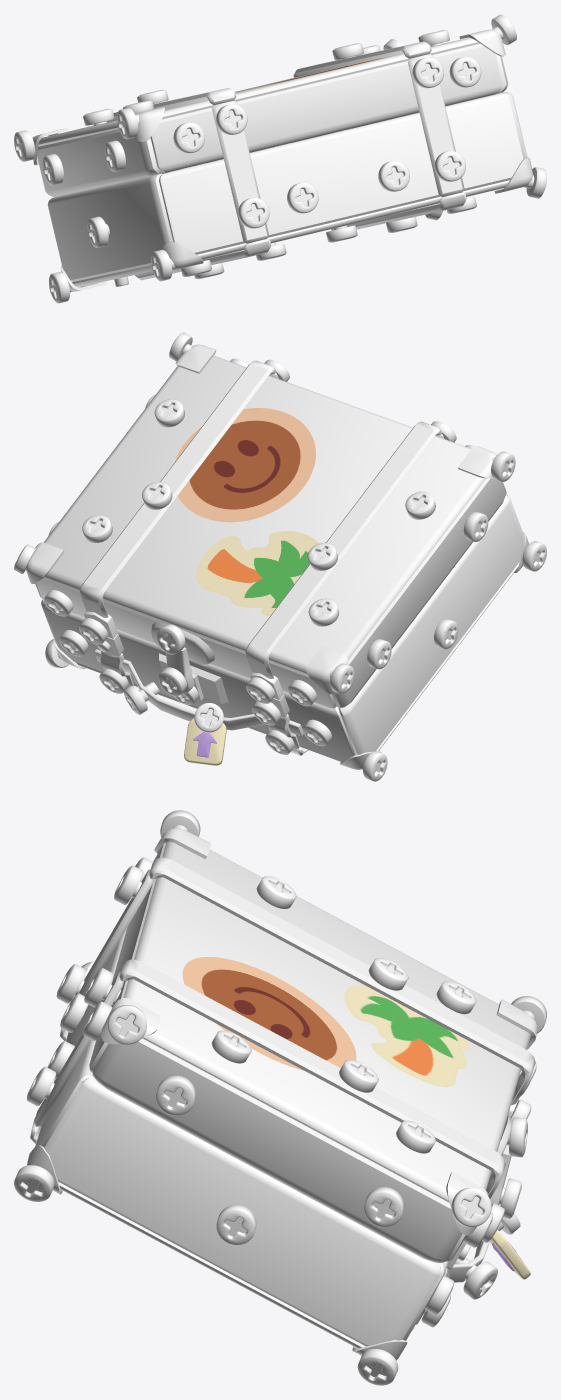
File: Suitcase.fbx
The picture shows the model from 3 angles, top to bottom: view 1: azimuth 30°, elevation 25°; view 2: azimuth 150°, elevation 25°; view 3: azimuth 270°, elevation 25°; orthographic projection. The views are drawn at different scales.
Visible parts, largest first — view 1: Board_Suitcase_25, Board_Suitcase_11, Screw (×21), Board_Suitcase_17, Board_Suitcase_20, Board_Suitcase_21, Board_Suitcase_2, Board_Suitcase_4, Board_Suitcase_24, Board_Suitcase_27, Board_Suitcase_3, Board_Suitcase_9 (+6 smaller); view 2: Board_Suitcase_21, Screw (×23), Board_Suitcase_17, Board_Suitcase_27, Board_Suitcase_9, Board_Suitcase_15, Board_Suitcase_20, Board_Suitcase_19, Board_Suitcase_12, Board_Suitcase_53, Board_Suitcase_13, Board_Suitcase_24 (+7 smaller); view 3: Board_Suitcase_21, Board_Suitcase_16, Board_Suitcase_18, Screw (×20), Board_Suitcase_9, Board_Suitcase_27, Board_Suitcase_25, Board_Suitcase_24, Board_Suitcase_11, Board_Suitcase_2, Board_Suitcase_4, Board_Suitcase_26 (+3 smaller).
Part boxes in pixels (bbox=[...]): Board_Suitcase_25: bbox=[159, 93, 523, 254]; Board_Suitcase_11: bbox=[150, 44, 502, 172]; Screw (×21): bbox=[14, 14, 546, 303]; Board_Suitcase_17: bbox=[47, 174, 173, 282]; Board_Suitcase_20: bbox=[37, 129, 164, 197]; Board_Suitcase_21: bbox=[38, 37, 480, 146]; Board_Suitcase_2: bbox=[408, 54, 464, 196]; Board_Suitcase_4: bbox=[212, 100, 268, 243]; Board_Suitcase_24: bbox=[72, 180, 509, 287]; Board_Suitcase_27: bbox=[293, 41, 431, 77]; Board_Suitcase_3: bbox=[331, 192, 466, 230]; Board_Suitcase_9: bbox=[107, 88, 236, 122]; Board_Suitcase_21: bbox=[44, 355, 485, 673]; Screw (×23): bbox=[44, 399, 546, 781]; Board_Suitcase_17: bbox=[338, 496, 524, 754]; Board_Suitcase_27: bbox=[79, 360, 276, 617]; Board_Suitcase_9: bbox=[245, 421, 441, 678]; Board_Suitcase_15: bbox=[43, 605, 355, 760]; Board_Suitcase_20: bbox=[332, 478, 506, 708]; Board_Suitcase_19: bbox=[36, 577, 336, 708]; Board_Suitcase_12: bbox=[94, 649, 303, 736]; Board_Suitcase_53: bbox=[184, 717, 226, 765]; Board_Suitcase_13: bbox=[306, 645, 348, 694]; Board_Suitcase_24: bbox=[76, 562, 519, 761]; Board_Suitcase_21: bbox=[123, 841, 530, 1202]; Board_Suitcase_16: bbox=[44, 1078, 440, 1346]; Board_Suitcase_18: bbox=[92, 1038, 462, 1262]; Screw (×20): bbox=[14, 810, 527, 1385]; Board_Suitcase_9: bbox=[149, 857, 535, 1105]; Board_Suitcase_27: bbox=[119, 959, 505, 1198]; Board_Suitcase_25: bbox=[36, 903, 128, 1147]; Board_Suitcase_24: bbox=[35, 1032, 365, 1348]; Board_Suitcase_11: bbox=[89, 842, 166, 1072]; Board_Suitcase_2: bbox=[34, 971, 123, 1126]; Board_Suitcase_4: bbox=[79, 869, 153, 995]; Board_Suitcase_26: bbox=[154, 828, 211, 859].
Size of the model in its own units: 10.44 by 7.07 by 8.99.
10 materials, 6 textured.
